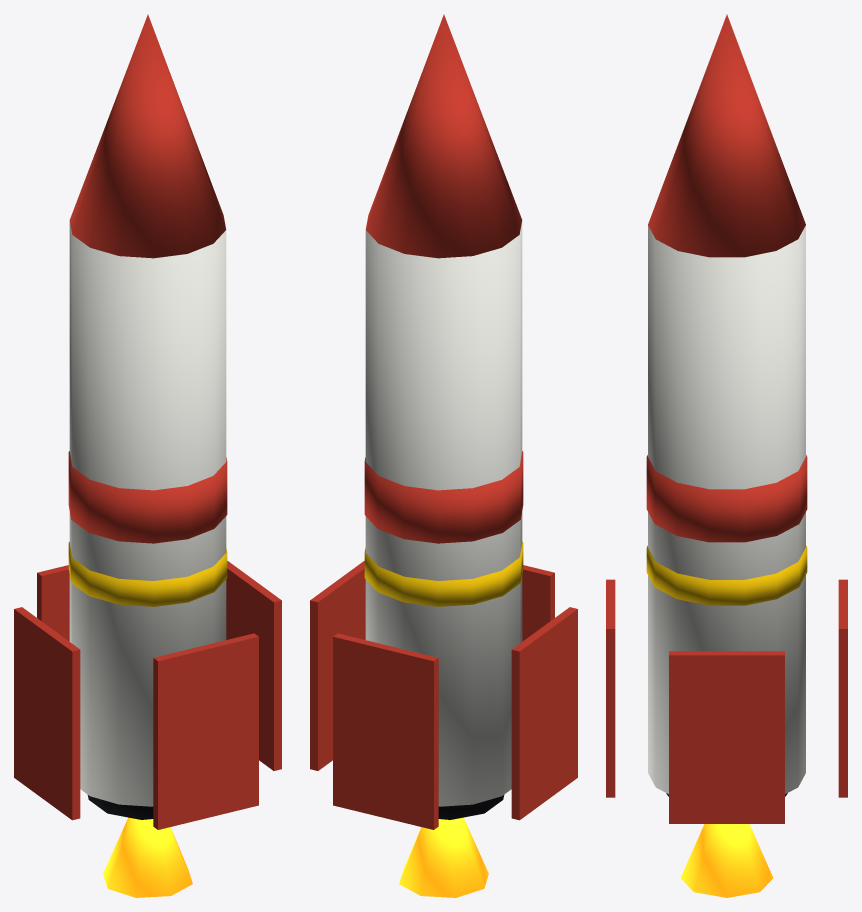
Rendered from rudal_atom.glb.
3 views of the same model, side by side, from view 1: azimuth 30°, elevation 25°; view 2: azimuth 150°, elevation 25°; view 3: azimuth 270°, elevation 25° (orthographic).
Visible parts, largest first — view 1: rudal_atom; view 2: rudal_atom; view 3: rudal_atom.
Boxes of the visible parts, <box> form: rudal_atom: <box>14,14,281,897</box>; rudal_atom: <box>310,14,577,897</box>; rudal_atom: <box>606,14,847,897</box>.
Bounding box in the file's own units: 1.04 × 4.1 × 1.04.
